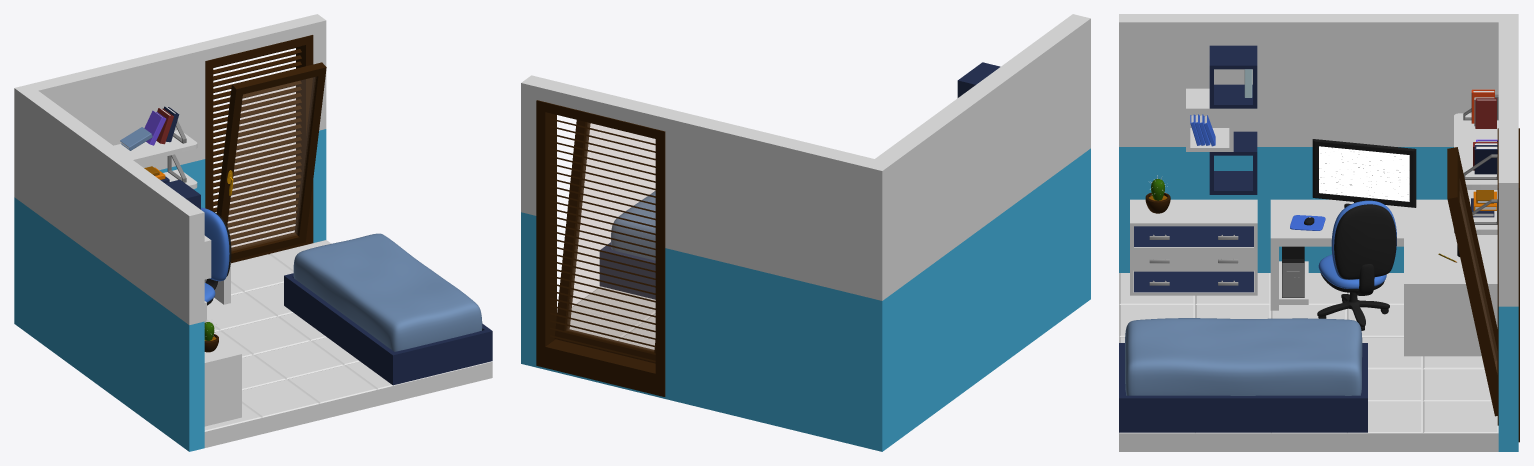
File: isometric_bedroom-optimized.glb
3 views of the same model, side by side, from view 1: azimuth 30°, elevation 25°; view 2: azimuth 150°, elevation 25°; view 3: azimuth 270°, elevation 25° (orthographic). The views are drawn at different scales.
Parts seen in each view (by area): view 1: Cube.002, Cube, Cube.020, Cube.022, Cube.021, Cube.010, Cube.003, Cube.019, Cube.014, Cube.052, Cube.042, Cube.028 (+1 smaller); view 2: Cube.002, Cube.022, Cube.019, Cube.021, Cube.003, Cube, Cube.010, Cube.020, Cube.001; view 3: Cube.002, Cube, Cube.020, Cube.024, Cube.014, Cube.010, Cube.052, Cube.001, Cube.003, Cube.023, Cube.042, Cube.013 (+7 smaller).
Part boxes in pixels (x1,y1,x2,y2): Cube.002: [14, 14, 326, 451]; Cube: [204, 240, 492, 447]; Cube.020: [293, 233, 482, 351]; Cube.022: [227, 77, 315, 250]; Cube.021: [213, 46, 301, 245]; Cube.010: [284, 273, 492, 385]; Cube.003: [216, 62, 326, 260]; Cube.019: [205, 35, 313, 263]; Cube.014: [204, 337, 241, 426]; Cube.052: [201, 207, 231, 305]; Cube.042: [120, 106, 179, 182]; Cube.028: [114, 130, 197, 163]; Cube.002: [521, 14, 1090, 451]; Cube.022: [567, 123, 655, 350]; Cube.019: [536, 100, 665, 396]; Cube.021: [550, 118, 655, 362]; Cube.003: [554, 120, 655, 363]; Cube: [569, 286, 655, 349]; Cube.010: [599, 242, 655, 299]; Cube.020: [611, 191, 655, 260]; Cube.001: [957, 62, 1000, 97]; Cube.002: [1119, 14, 1518, 451]; Cube: [1119, 273, 1498, 451]; Cube.020: [1125, 318, 1362, 395]; Cube.024: [1270, 199, 1497, 356]; Cube.014: [1130, 199, 1257, 295]; Cube.010: [1119, 343, 1367, 432]; Cube.052: [1317, 200, 1396, 326]; Cube.001: [1186, 45, 1257, 194]; Cube.003: [1447, 147, 1497, 416]; Cube.023: [1319, 146, 1409, 201]; Cube.042: [1190, 69, 1497, 217]; Cube.013: [1312, 139, 1416, 207].
Size of the model in its own units: 200 by 149 by 201.
